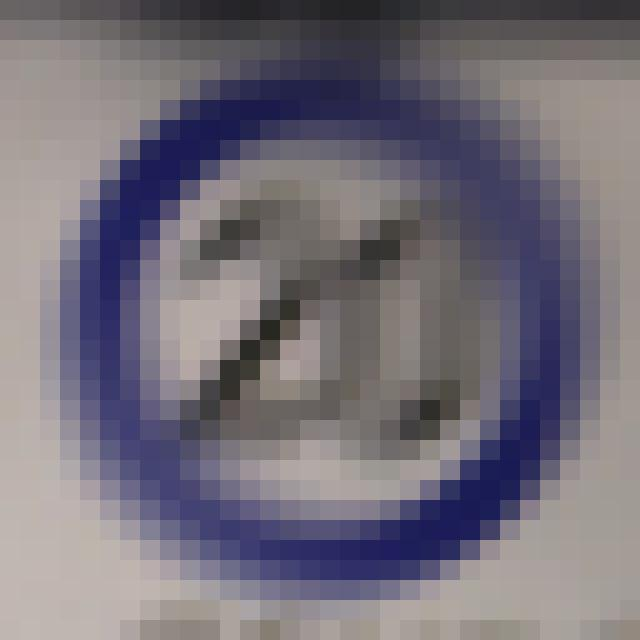SPEED LIMIT 20: (52, 86, 584, 570)
